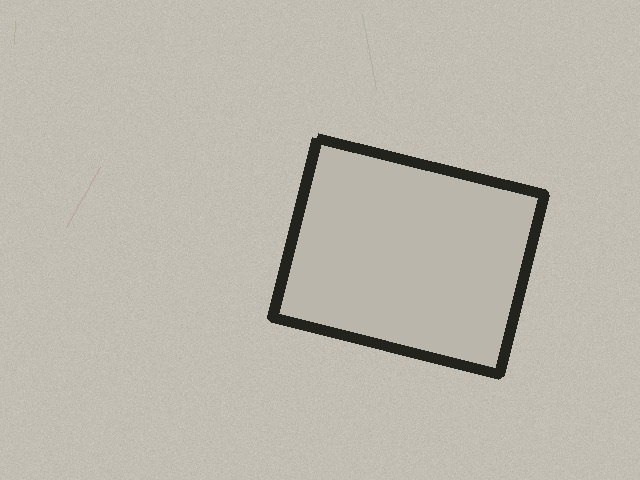parking_area: (272, 138, 544, 374)
